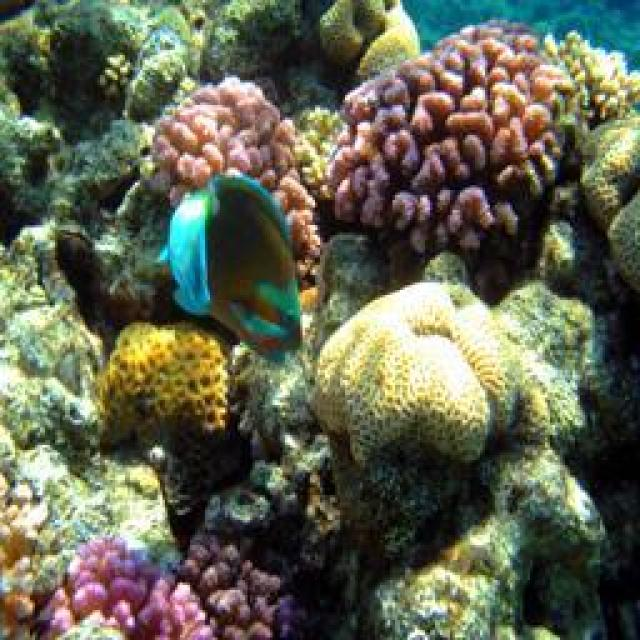reefs: (329, 23, 578, 254), (304, 281, 524, 470), (152, 75, 324, 279), (89, 318, 234, 468)
